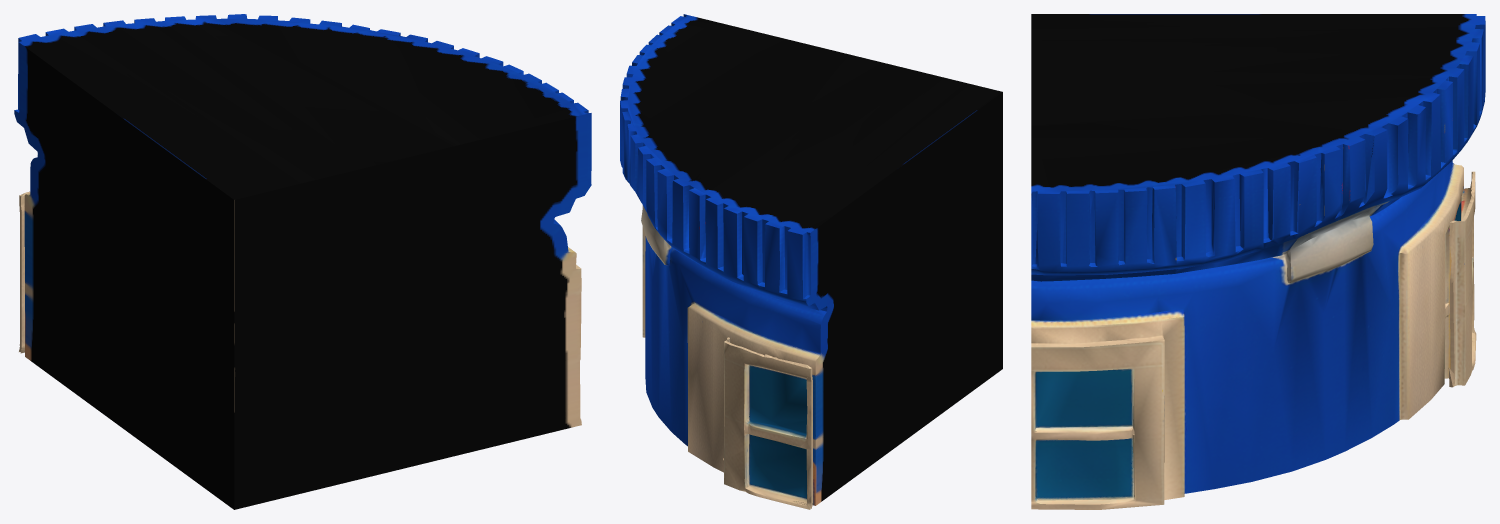
The model's file is 8-upper-walls-back-right.fbx.
The picture shows the model from 3 angles, left to right: view 1: azimuth 30°, elevation 25°; view 2: azimuth 150°, elevation 25°; view 3: azimuth 270°, elevation 25°; orthographic projection. The views are drawn at different scales.
Visible parts, largest first — view 1: upper-walls-back-right; view 2: upper-walls-back-right; view 3: upper-walls-back-right.
Boxes of the visible parts, x1,y1,x2,y2 form: upper-walls-back-right: [14, 14, 591, 509]; upper-walls-back-right: [620, 14, 1002, 509]; upper-walls-back-right: [1031, 14, 1485, 509].
Bounding box in the file's own units: 4638 × 3843 × 4941.
Materials: 1 (1 with a texture image).
